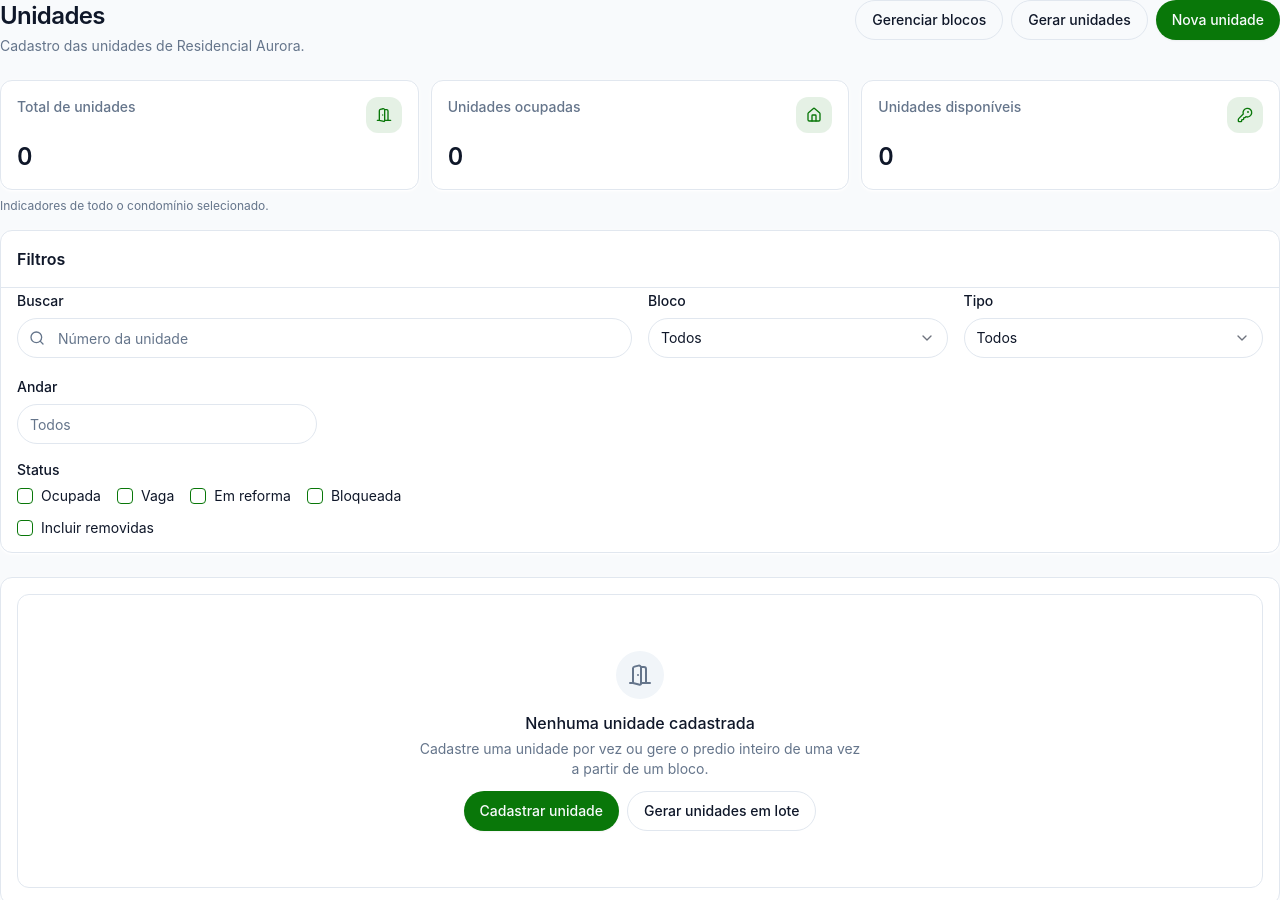
Test: Gestao de blocos do condomínio › IT-202: sem blocos, a gestao oferece a criação do primeiro
Check: the text "Nenhuma unidade cadastrada" is shown, box [525, 713, 755, 733]
Click the button "Gerenciar blocos".
click(929, 20)  # box [855, 0, 1003, 40]
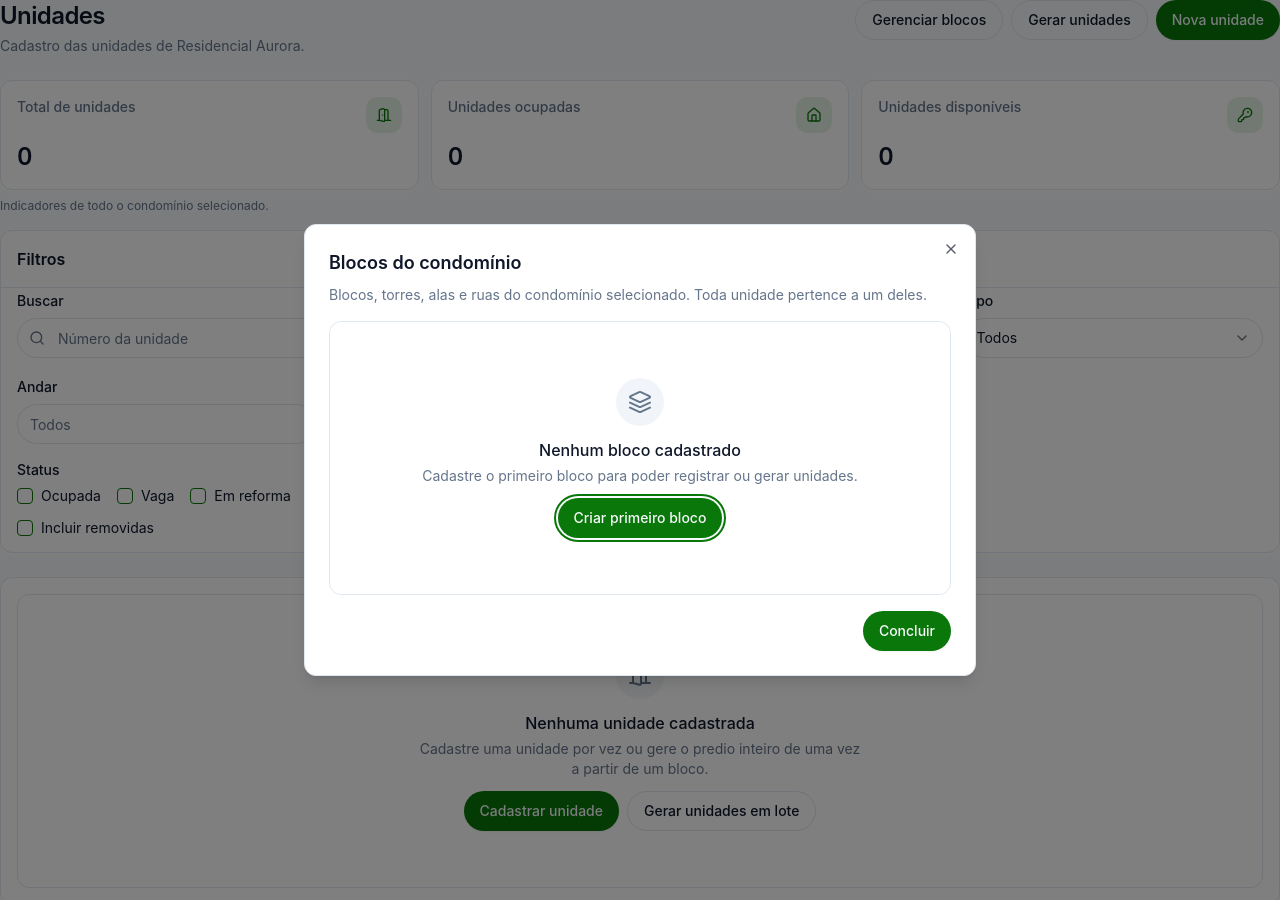
Check: the heading "Blocos do condomínio" is shown, box [329, 252, 521, 273]
Check: the text "Nenhum bloco cadastrado" is shown, box [539, 440, 741, 460]
Check: the button "Criar primeiro bloco" is shown, box [558, 498, 722, 538]
